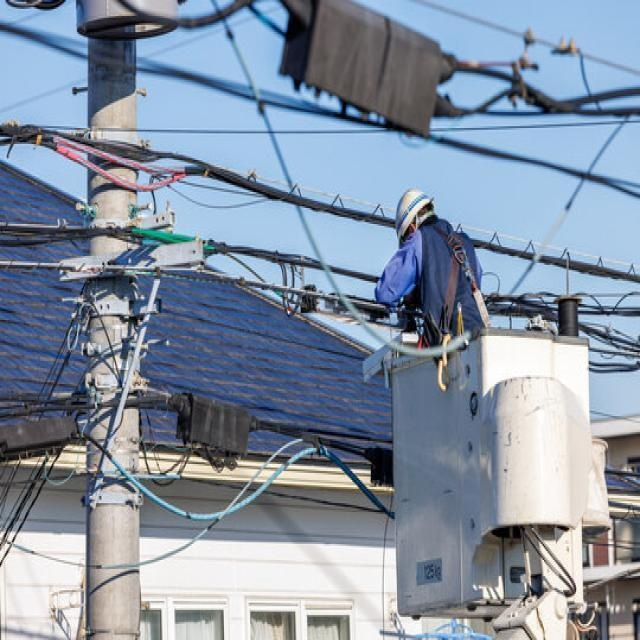Arnes_seguridad: (428, 221, 489, 335)
